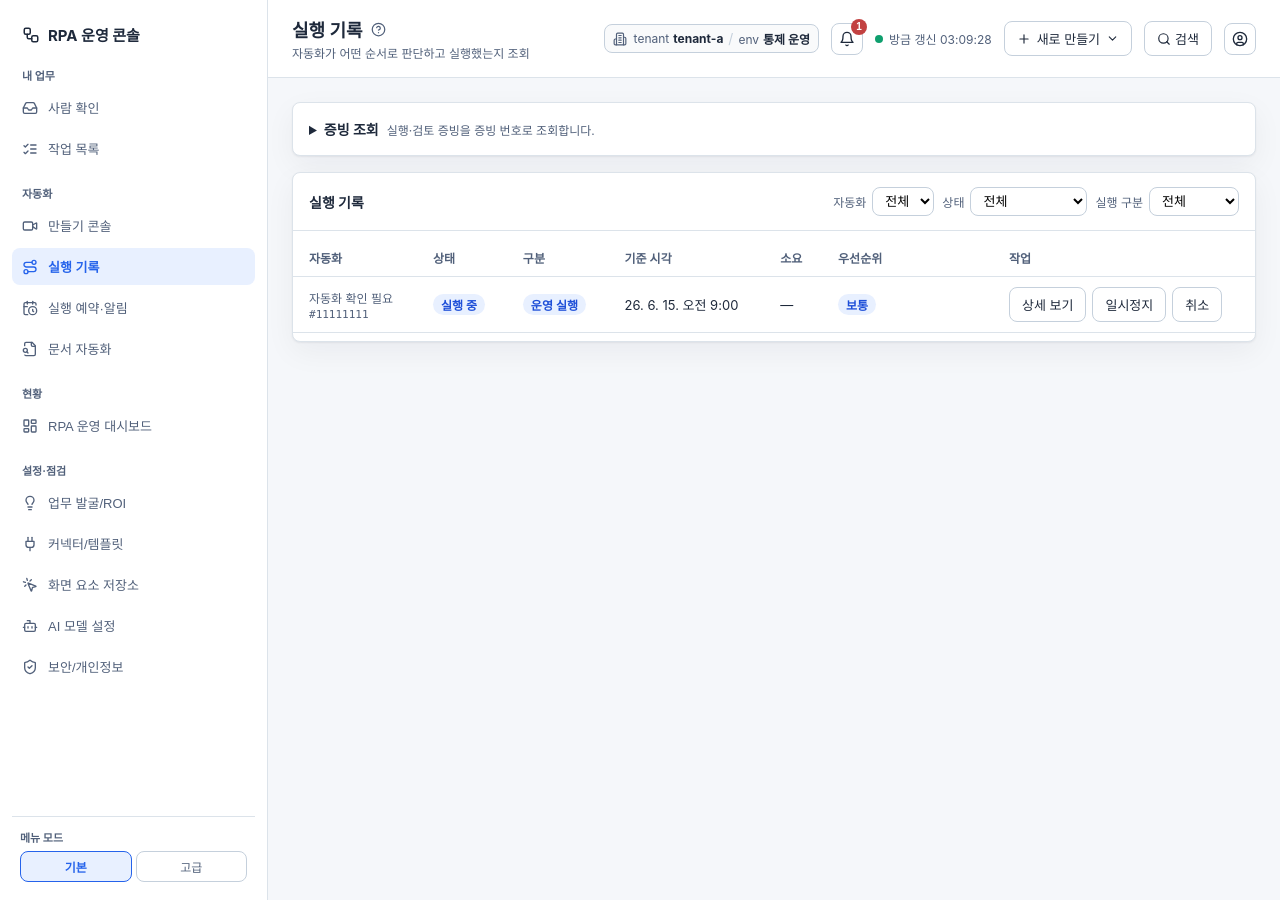
Scenario: D7 운영 콘솔 shell › 운영자 명령: 실행 취소(abort) 디스패치 + Idempotency-Key
The width and height of the screenshot is (1280, 900).
Click the button "취소".
click(1197, 304)  # box [1172,287,1222,322]
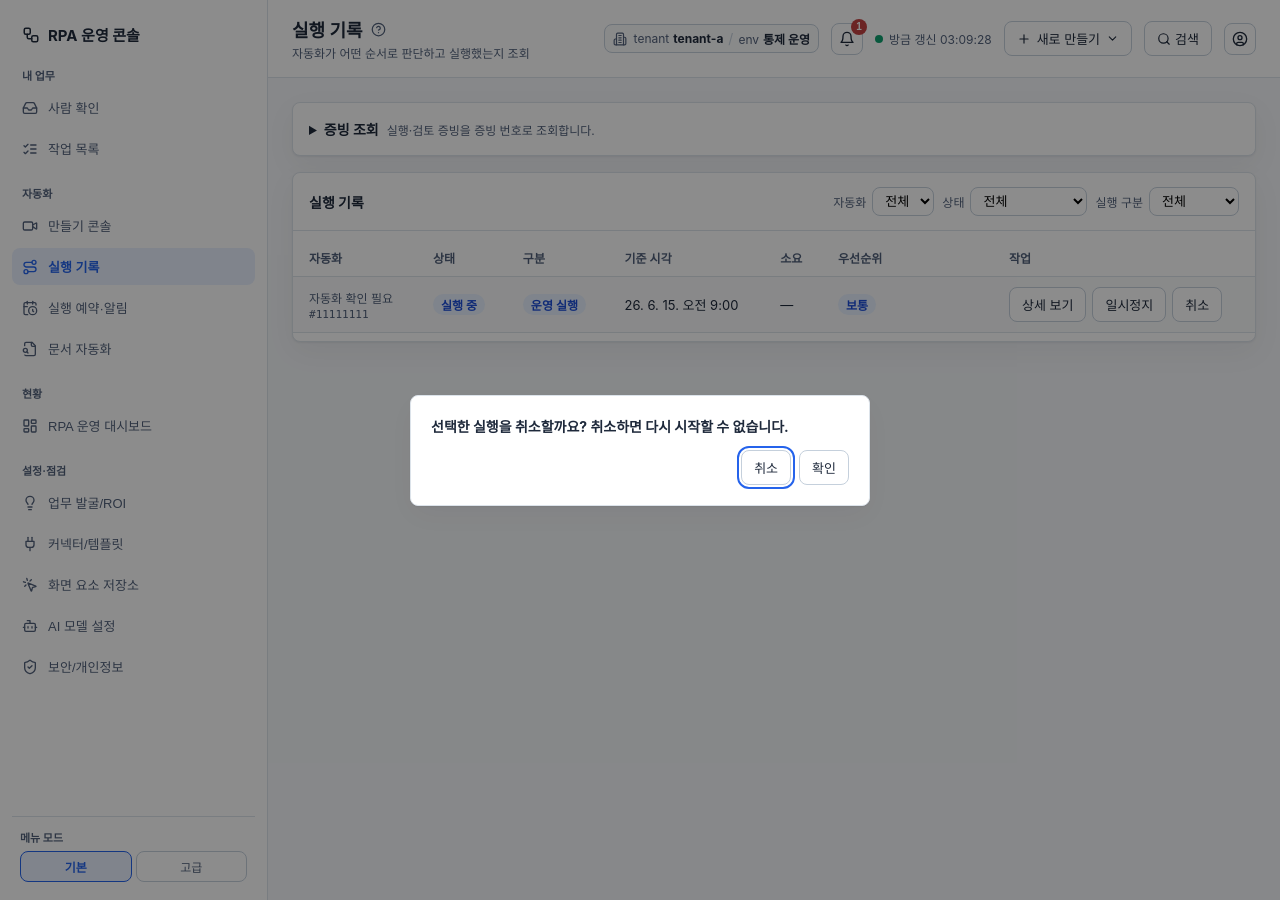
Click the button "확인".
click(824, 467)  # box [799,450,849,484]
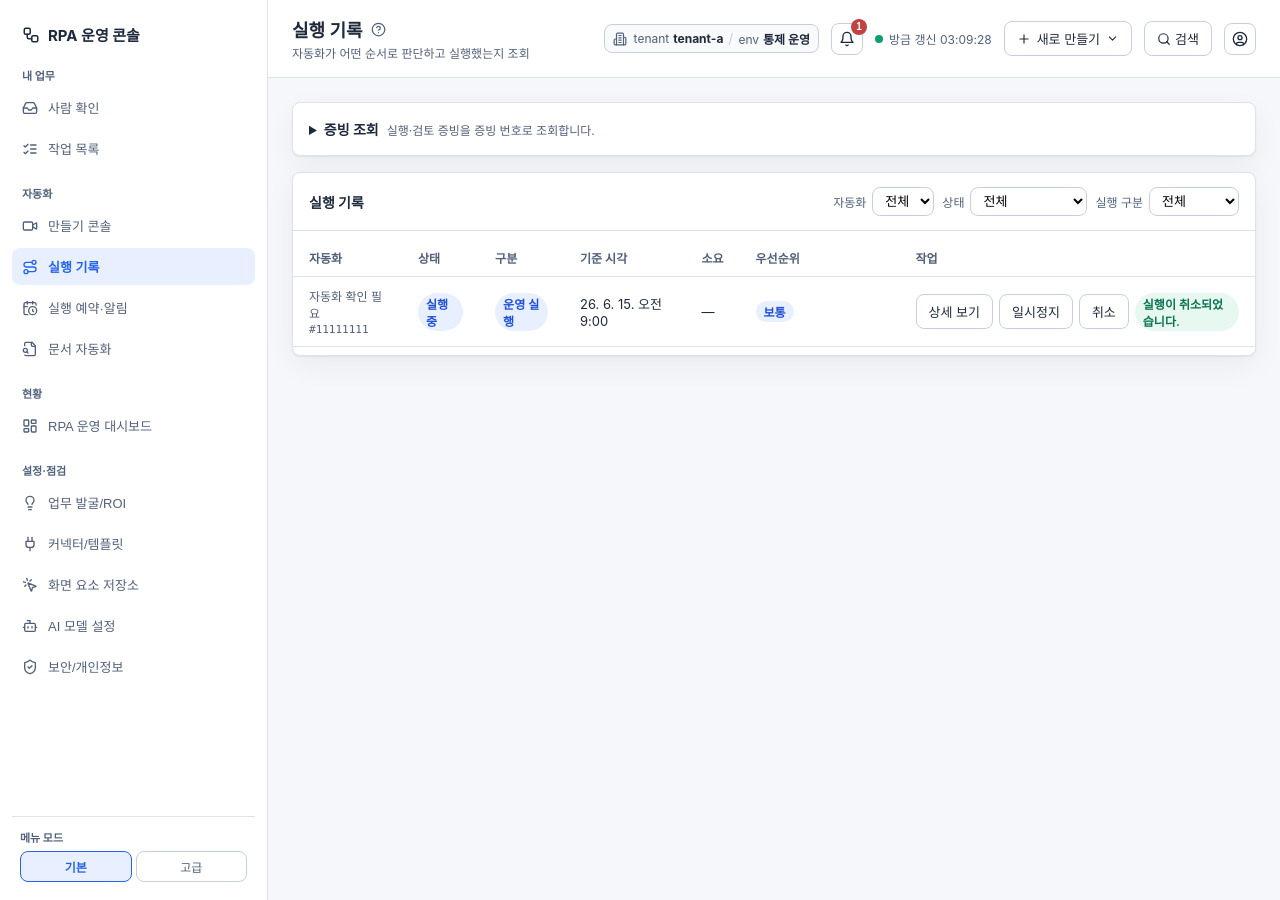
Now the text "실행이 취소되었습니다." is shown, box [1135,292,1239,330]
